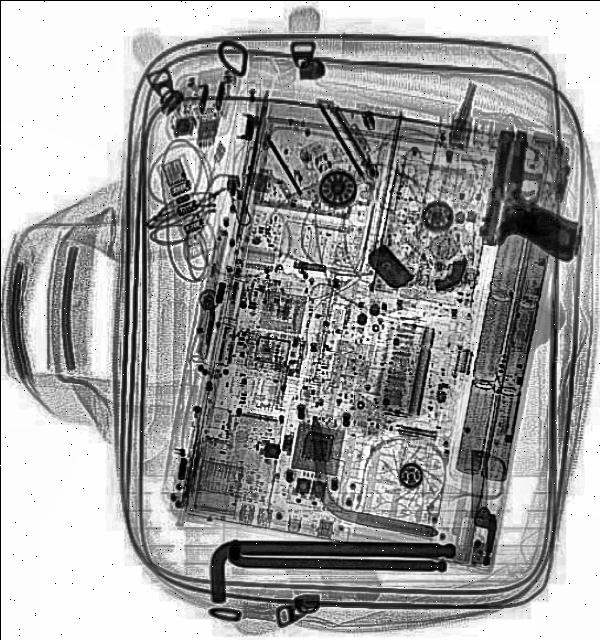Gun: (478, 124, 596, 260)
